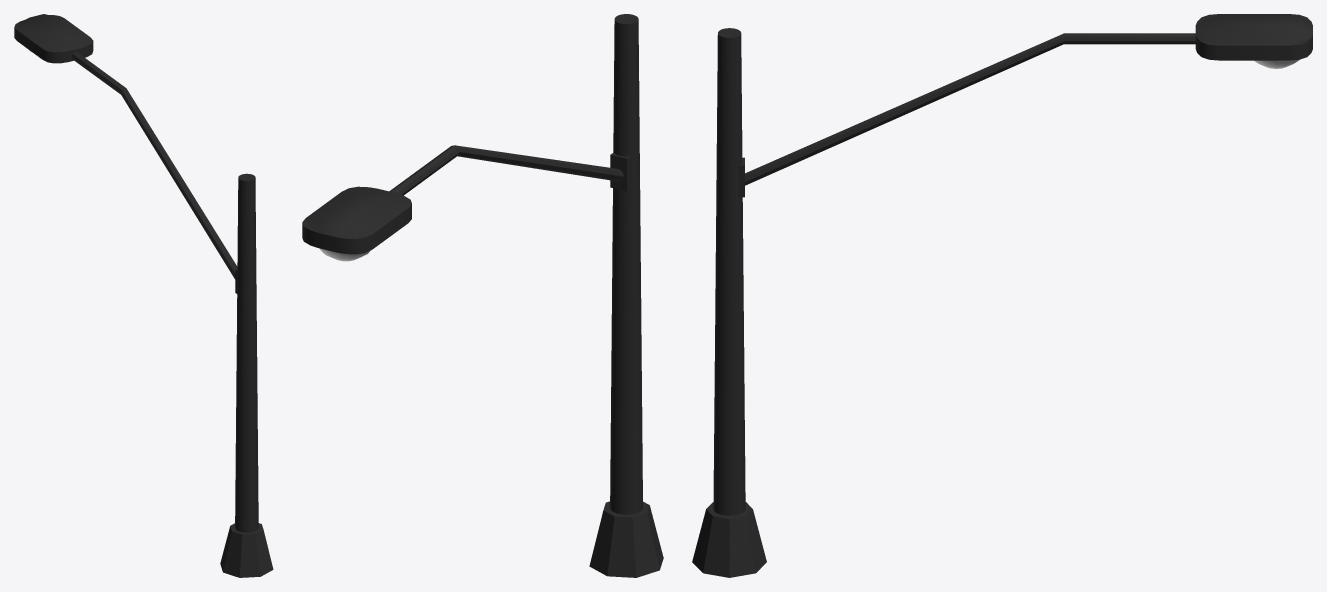
The model's file is GSDStreetLight_TrafficLight.fbx.
3 views of the same model, side by side, from view 1: azimuth 30°, elevation 25°; view 2: azimuth 150°, elevation 25°; view 3: azimuth 270°, elevation 25° (orthographic). The views are drawn at different scales.
Visible parts, largest first — view 1: Cone001; view 2: Cone001; view 3: Cone001.
Part boxes in pixels (left/top/right/bottom): Cone001: left=14, top=14, right=273, bottom=577; Cone001: left=302, top=14, right=663, bottom=577; Cone001: left=692, top=14, right=1312, bottom=577.
Bounding box in the file's own units: 0.3204 × 2.65 × 2.54.
